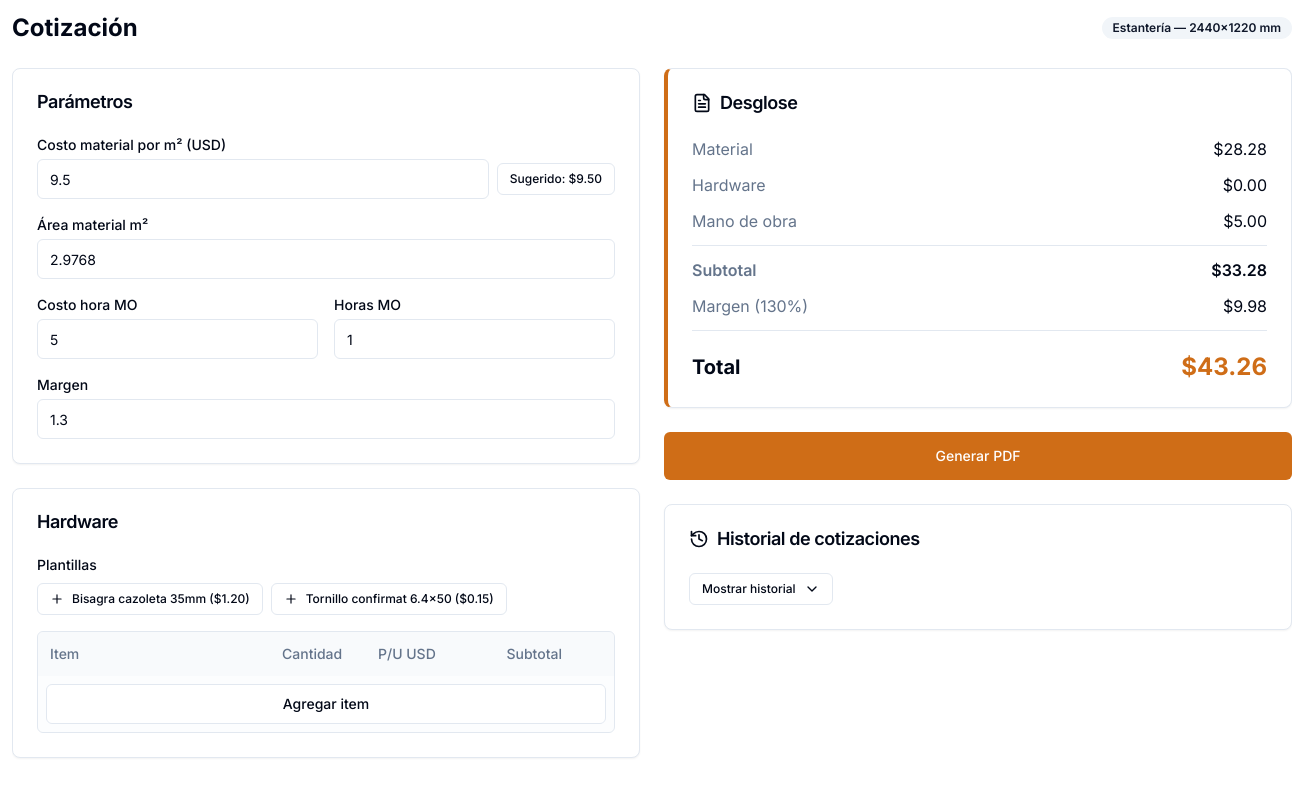
Test: QuotePage › adds a hardware item from a template chip
Click the button "Bisagra cazoleta 35mm ($1.20)" at (150, 599), box [37,583,263,615]
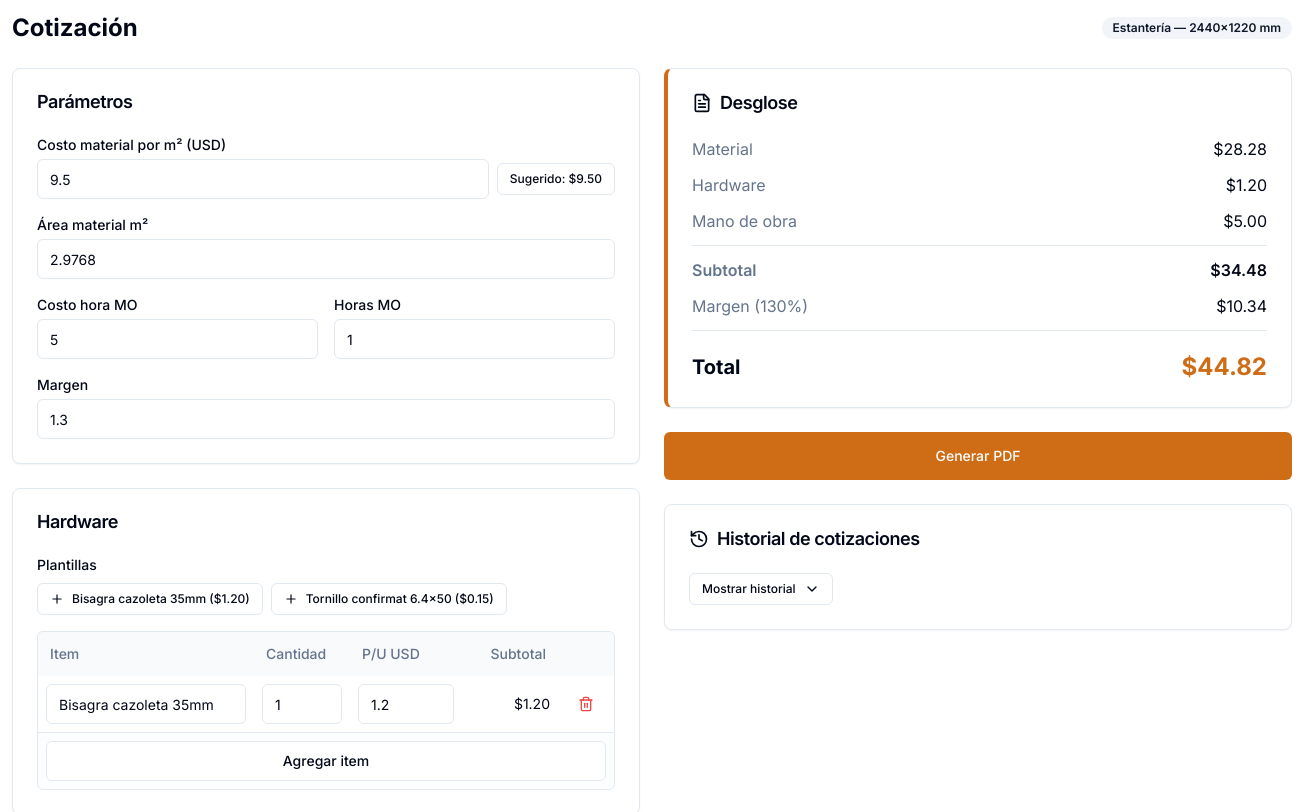
Result: the field showing "Bisagra cazoleta 35mm" is shown at [46,684,246,724]
Result: the number field showing "1.2" is shown at [358,684,454,724]
